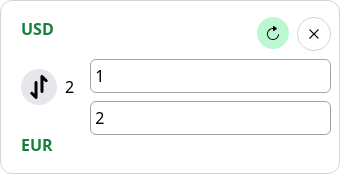
Test: FXCards Component › handles input changes correctly
The width and height of the screenshot is (357, 191).
Replace the text in the 1st number field showing "1" with "2" at point(211, 76), box 90,59 -> 331,93
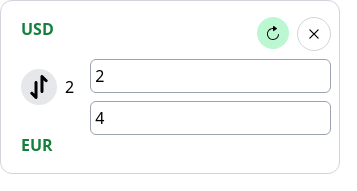
Expected: the 2nd number field showing "4" holds "4", 90,101 -> 331,135
